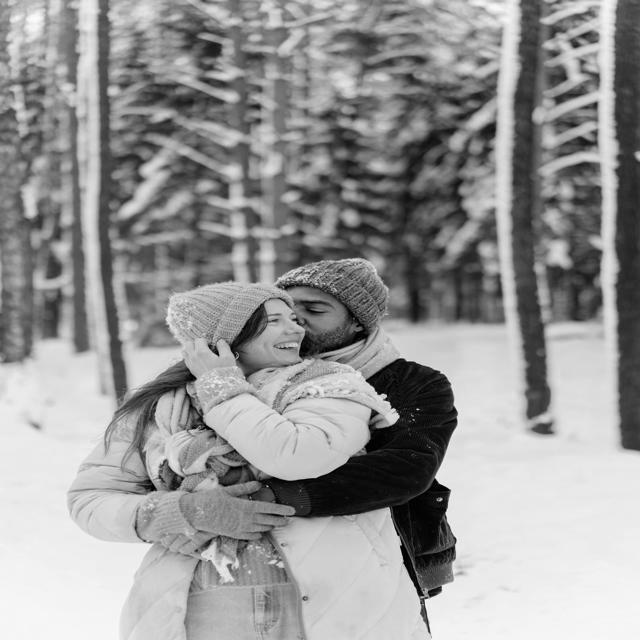Happiness: (248, 304, 310, 368)
